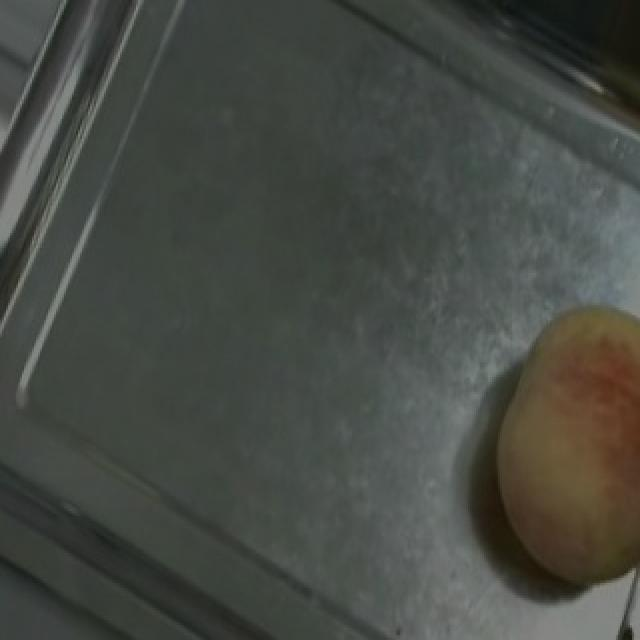Fruit: (448, 280, 640, 620)
